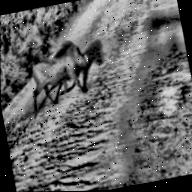boar: (23, 37, 98, 112)
